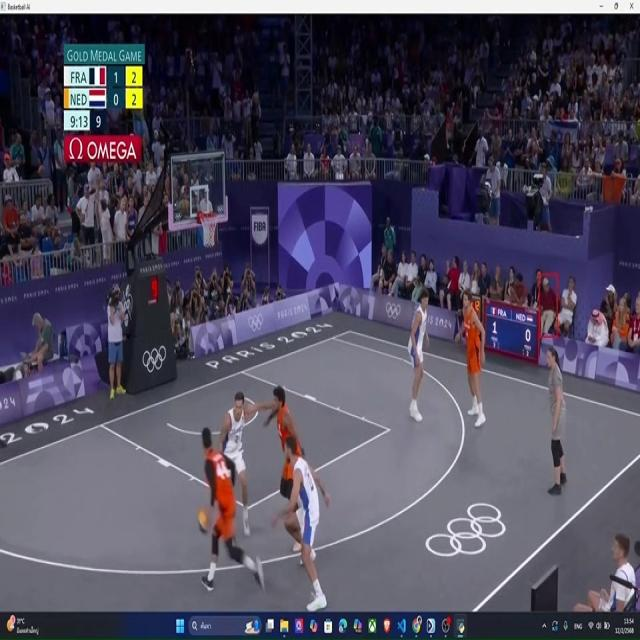basketball: (198, 509, 210, 536)
hoop: (200, 209, 217, 250)
